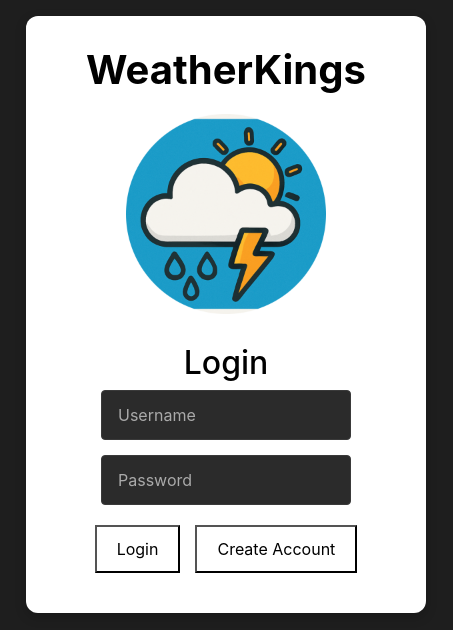
Test: App Component Tests › navigates back to Login from CreateAccount when Cancel is clicked
The width and height of the screenshot is (453, 630).
Note: Navigate to CreateAccount first
Click the button "Create Account". click: (276, 549)
box: [195,525,357,573]
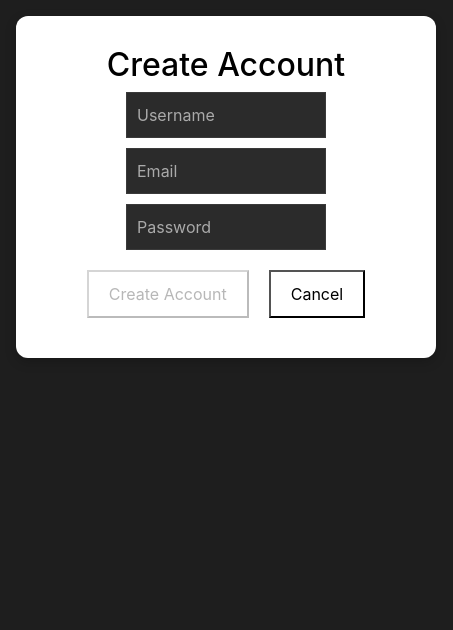
Note: Now click Cancel to go back to Login
Click the button "Cancel". click: (317, 294)
box: [269,270,365,318]
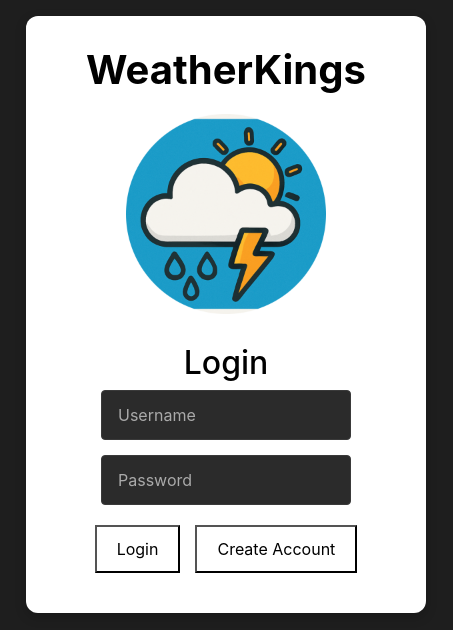
Expected: the heading "Login" is shown, [184,343,268,382]
